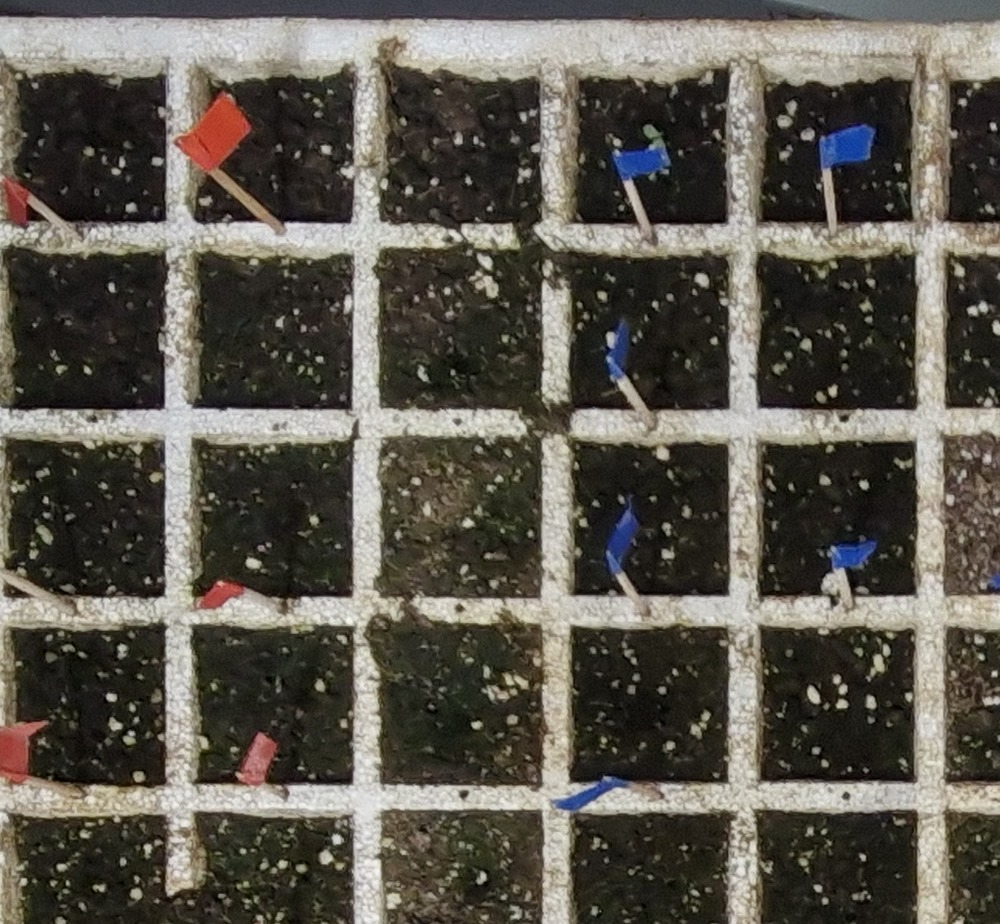Folha: (644, 125, 658, 137)
Germinacao: (643, 124, 665, 146)
